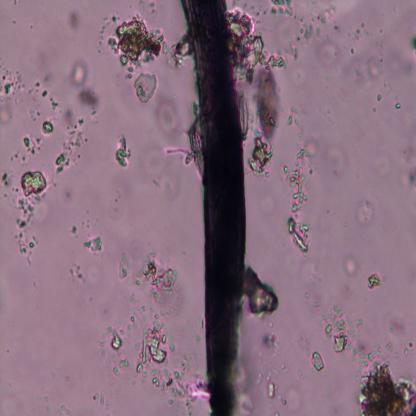Background material: (138, 318, 191, 402), (229, 9, 287, 82), (339, 42, 415, 91), (358, 361, 416, 414), (283, 144, 310, 256), (106, 17, 164, 67), (287, 5, 340, 57), (295, 130, 347, 181), (349, 320, 392, 372), (138, 142, 174, 201), (64, 60, 100, 116), (139, 249, 180, 296), (54, 119, 86, 179), (244, 267, 280, 318), (11, 198, 41, 258), (294, 255, 326, 309), (147, 94, 182, 142), (257, 65, 280, 137), (324, 304, 350, 354), (352, 188, 378, 234), (0, 65, 26, 109), (34, 76, 62, 116), (313, 36, 341, 74), (400, 141, 416, 193), (353, 12, 376, 48), (134, 70, 158, 102), (19, 170, 48, 196), (67, 259, 92, 288), (108, 178, 126, 218), (111, 134, 132, 167), (258, 324, 281, 354), (107, 354, 131, 382), (268, 0, 298, 19), (337, 252, 357, 279), (386, 319, 408, 340), (287, 110, 307, 130), (79, 236, 103, 252), (0, 100, 17, 121), (120, 252, 131, 282), (92, 388, 110, 406), (310, 349, 324, 372), (110, 330, 124, 352), (69, 12, 84, 31), (265, 380, 278, 400), (367, 275, 382, 291), (58, 189, 74, 204), (53, 402, 72, 414), (42, 121, 55, 135), (67, 224, 80, 238), (407, 36, 416, 50), (367, 104, 377, 115), (373, 90, 382, 102), (394, 99, 402, 110), (22, 137, 30, 148)
Cotton: (179, 0, 249, 415)
Diatom: (238, 94, 250, 138)
